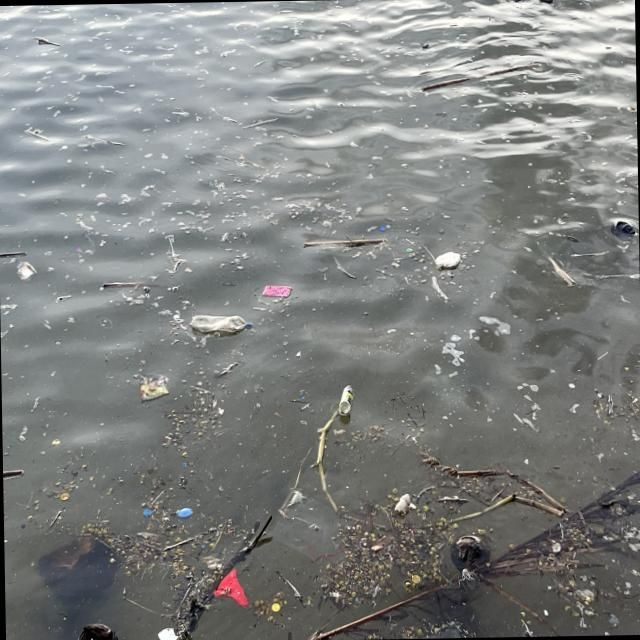foam: (436, 253, 462, 271), (158, 626, 178, 640)
plastic bottle: (191, 314, 253, 334), (339, 384, 355, 415), (395, 495, 411, 516)
